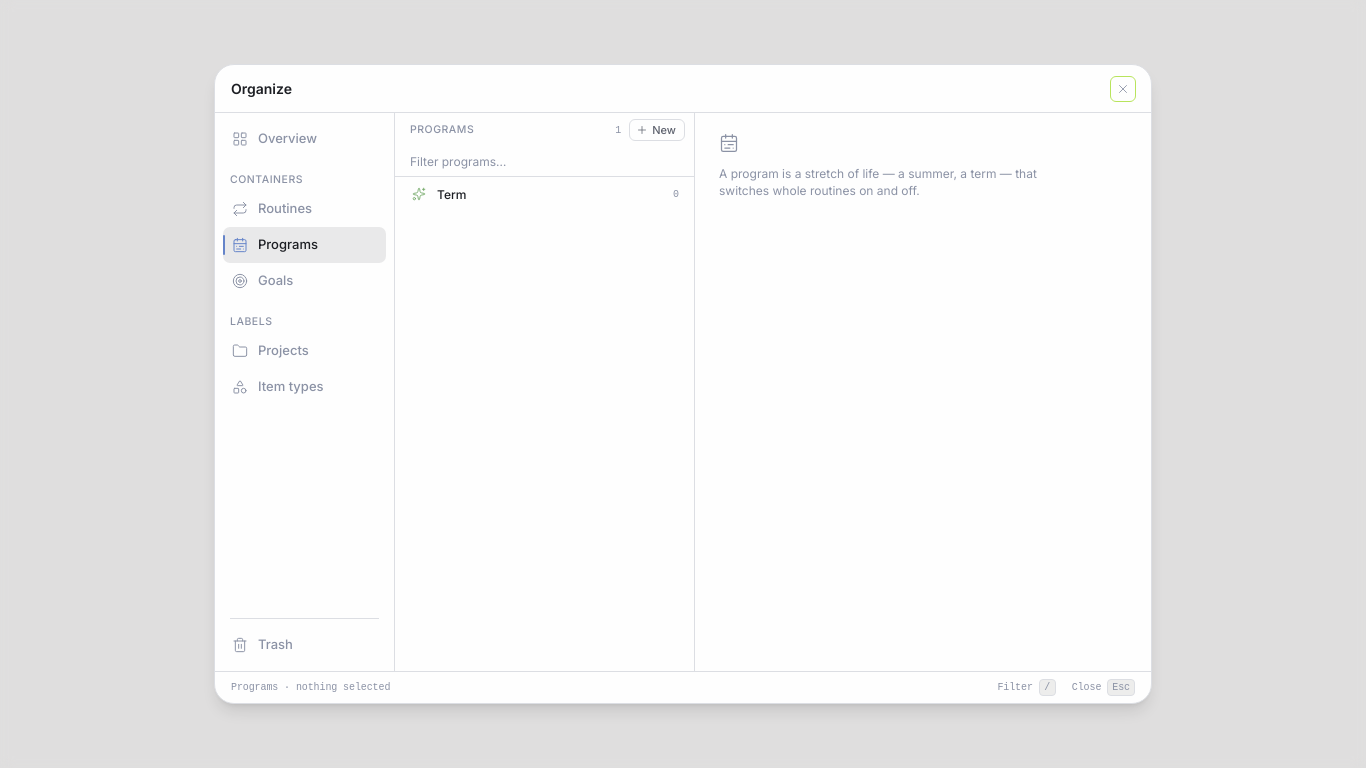
Test: the programs section › renders the date range under Dates and nowhere else
The width and height of the screenshot is (1366, 768).
Click the button with test id "program-row". click: (419, 194)
box: left=403, top=177, right=686, bottom=211
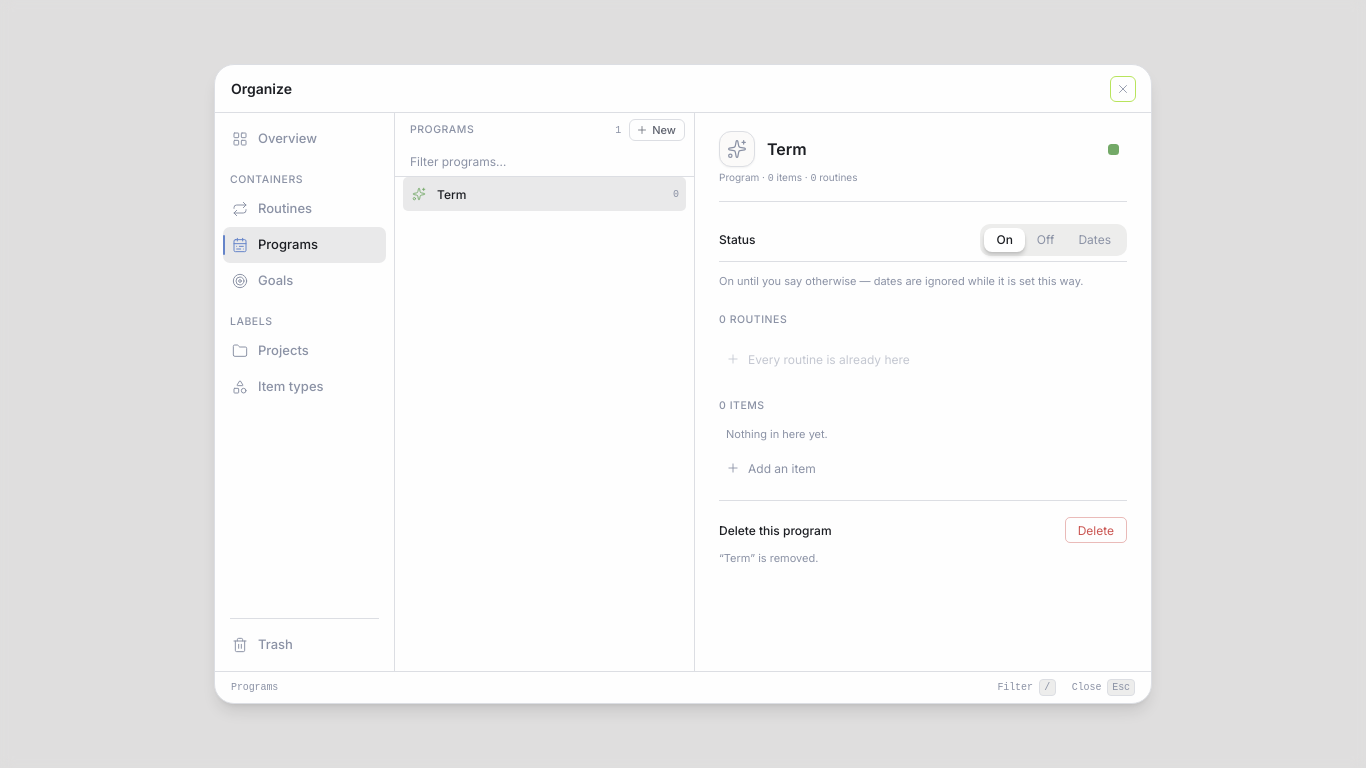
Click the button with test id "program-state-auto". click: (1095, 240)
box: left=1066, top=228, right=1123, bottom=252
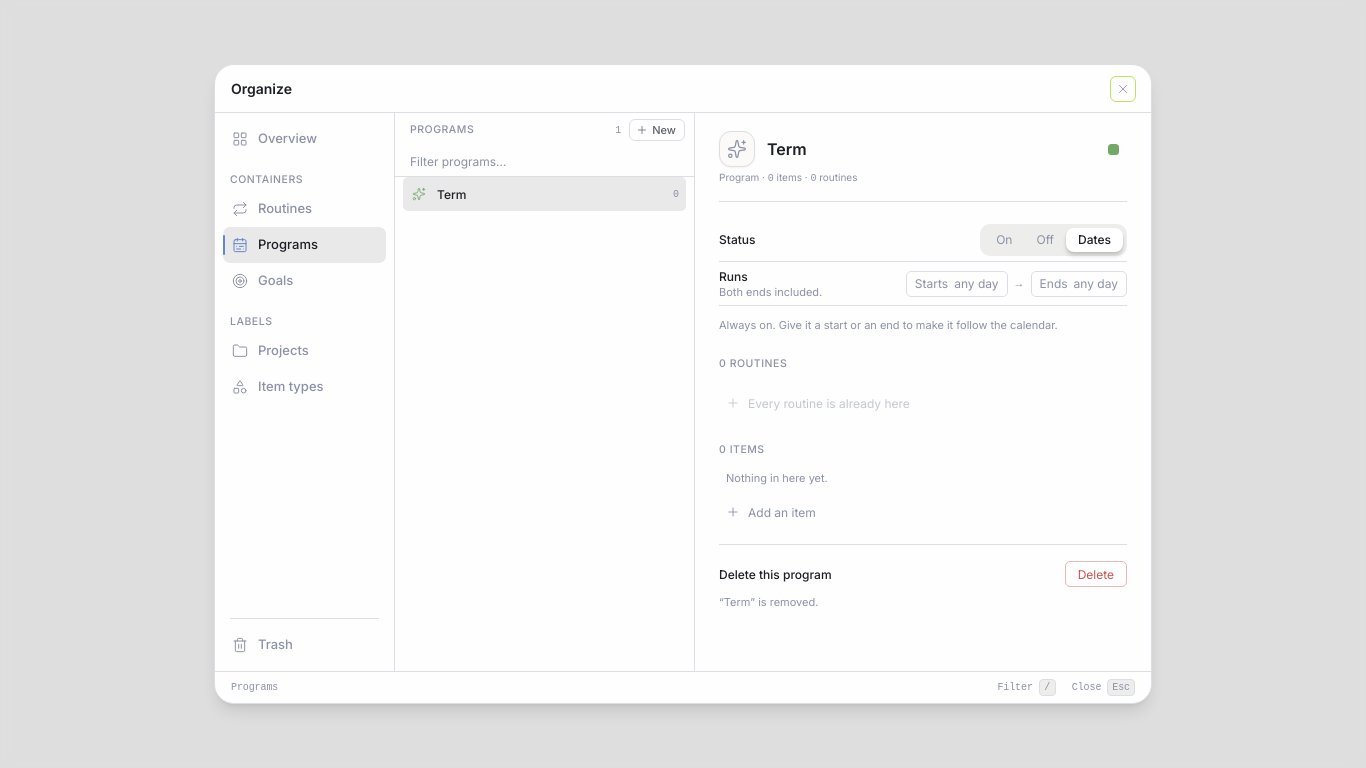
Check: the button with test id "program-starts-on" is shown, box left=906, top=270, right=1008, bottom=296
Check: the button with test id "program-ends-on" is shown, box left=1031, top=270, right=1127, bottom=296
